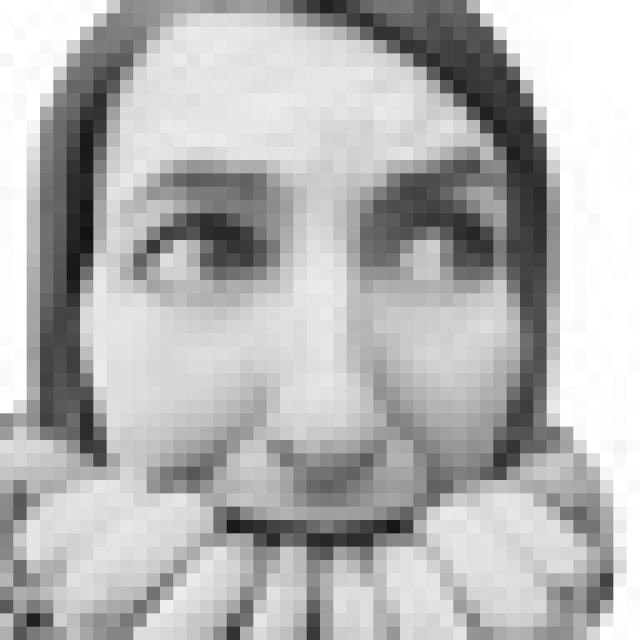fear: (116, 146, 513, 604)
